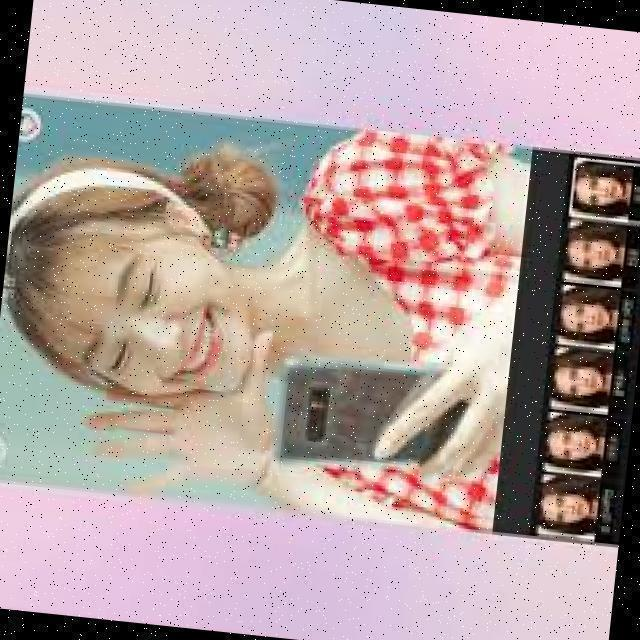phone: (280, 360, 472, 466)
